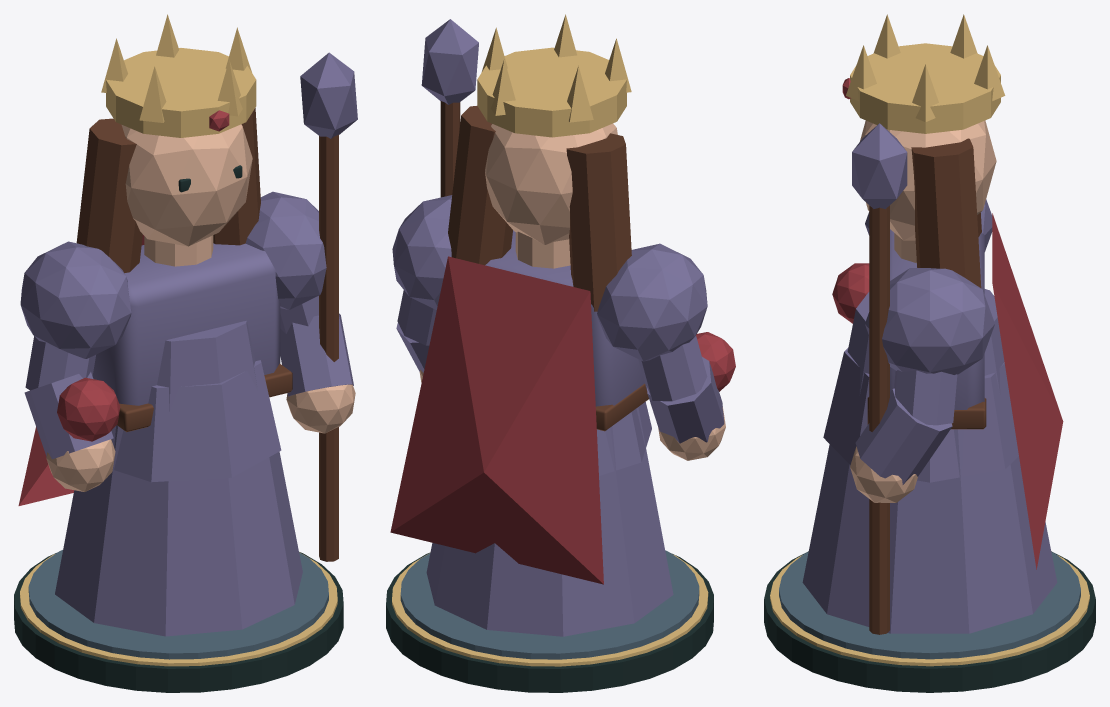
The model's file is guinevere.glb.
The picture shows the model from 3 angles, left to right: view 1: azimuth 30°, elevation 25°; view 2: azimuth 150°, elevation 25°; view 3: azimuth 270°, elevation 25°; orthographic projection.
Parts seen in each view (by area): view 1: Gown, Torso, Coat, Head, PedestalTop, LeftShoulder, Pedestal, CrownBand, Hair, Staff, RightShoulder, StaffCrystal (+17 smaller); view 2: Cape, Gown, PedestalTop, Pedestal, LeftShoulder, CrownBand, Head, Hair, Hair.001, RightShoulder, Torso, StaffCrystal (+16 smaller); view 3: Gown, PedestalTop, Pedestal, Cape, RightShoulder, CrownBand, Coat, Hair.001, Staff, RightForearm, Head, StaffCrystal (+11 smaller).
Boxes of the visible parts, bbox=[...] form: Gown: bbox=[55, 320, 302, 636]; Torso: bbox=[92, 243, 280, 405]; Coat: bbox=[111, 360, 281, 482]; Head: bbox=[121, 124, 252, 246]; PedestalTop: bbox=[28, 550, 328, 659]; LeftShoulder: bbox=[20, 241, 131, 358]; Pedestal: bbox=[14, 552, 343, 692]; CrownBand: bbox=[106, 48, 256, 137]; Hair: bbox=[76, 118, 142, 272]; Staff: bbox=[319, 135, 338, 561]; RightShoulder: bbox=[245, 191, 326, 309]; StaffCrystal: bbox=[300, 52, 357, 138]; Cape: bbox=[390, 256, 603, 584]; Gown: bbox=[426, 407, 673, 636]; PedestalTop: bbox=[400, 550, 699, 659]; Pedestal: bbox=[386, 552, 713, 692]; LeftShoulder: bbox=[597, 243, 707, 361]; CrownBand: bbox=[477, 47, 626, 137]; Head: bbox=[485, 123, 617, 244]; Hair: bbox=[566, 133, 631, 311]; Hair.001: bbox=[448, 106, 512, 265]; RightShoulder: bbox=[392, 195, 452, 309]; Torso: bbox=[485, 230, 644, 406]; StaffCrystal: bbox=[421, 19, 478, 104]; Gown: bbox=[802, 289, 1057, 633]; PedestalTop: bbox=[779, 552, 1080, 659]; Pedestal: bbox=[764, 551, 1095, 692]; Cape: bbox=[992, 213, 1063, 569]; RightShoulder: bbox=[865, 268, 994, 374]; CrownBand: bbox=[850, 43, 1000, 133]; Coat: bbox=[823, 348, 1018, 482]; Hair.001: bbox=[911, 138, 981, 287]; Staff: bbox=[869, 205, 889, 634]; RightForearm: bbox=[855, 388, 952, 484]; Head: bbox=[860, 120, 996, 240]; StaffCrystal: bbox=[852, 123, 907, 209].
Bounding box in the file's own units: 0.1582 × 0.284 × 0.1456.
